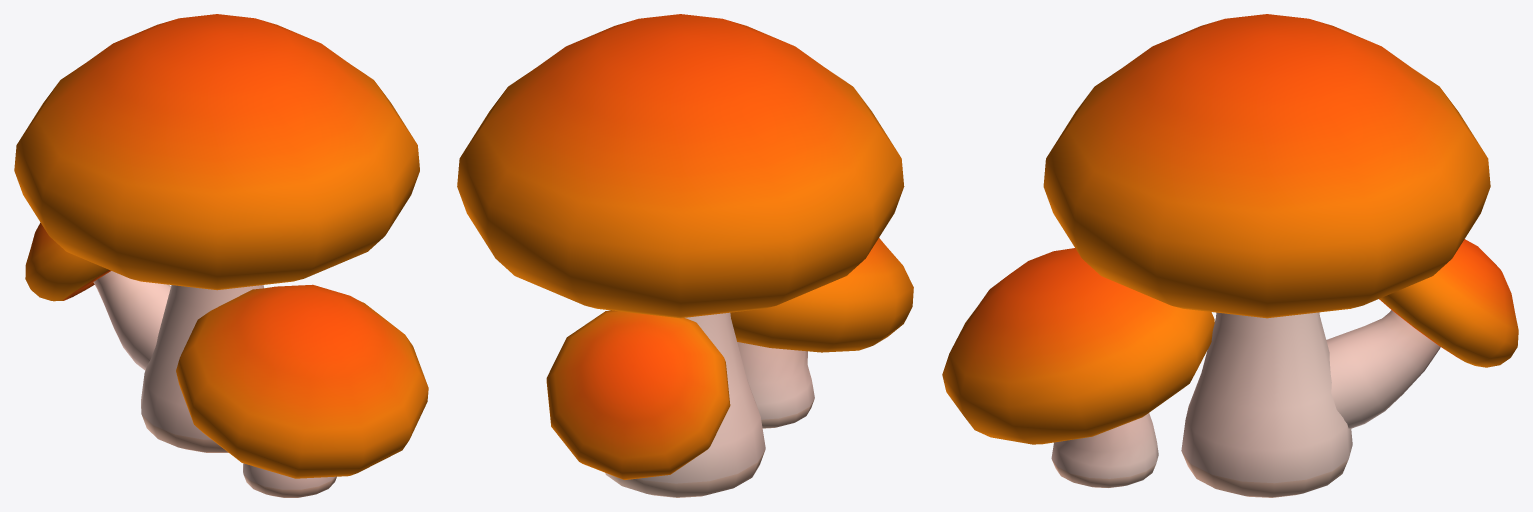
Rendered from Mashroom_V1_02.fbx.
The picture shows the model from 3 angles, left to right: view 1: azimuth 30°, elevation 25°; view 2: azimuth 150°, elevation 25°; view 3: azimuth 270°, elevation 25°; orthographic projection. The views are drawn at different scales.
Parts seen in each view (by area): view 1: Mashroom_V1_02; view 2: Mashroom_V1_02; view 3: Mashroom_V1_02.
Boxes of the visible parts, x1,y1,x2,y2 form: Mashroom_V1_02: (14, 14, 428, 497); Mashroom_V1_02: (457, 14, 913, 497); Mashroom_V1_02: (942, 14, 1518, 497).
Size of the model in its own units: 36.75 by 39.46 by 47.39.
